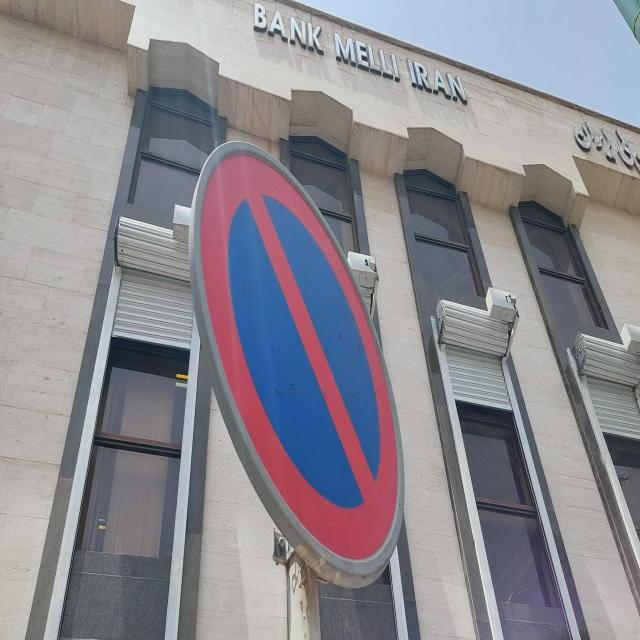forb_stopping: (189, 136, 405, 584)
